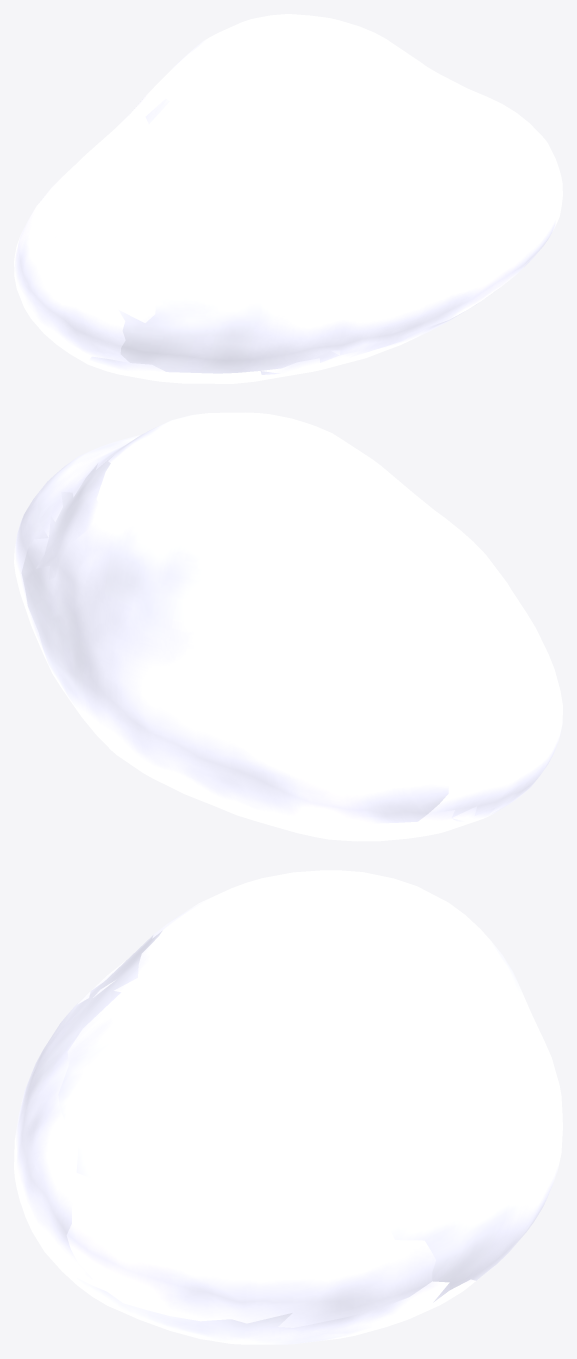
The model's file is cloudbank.glb.
The picture shows the model from 3 angles, top to bottom: view 1: azimuth 30°, elevation 25°; view 2: azimuth 150°, elevation 25°; view 3: azimuth 270°, elevation 25°; orthographic projection. The views are drawn at different scales.
Parts seen in each view (by area): view 1: Base; view 2: Base; view 3: Base.
Boxes of the visible parts, <box> form: Base: <box>14,14,562,383</box>; Base: <box>14,412,562,841</box>; Base: <box>14,870,562,1344</box>.
Size of the model in its own units: 0.9936 by 0.6177 by 0.7103.
Materials: 1 (1 with a texture image).
